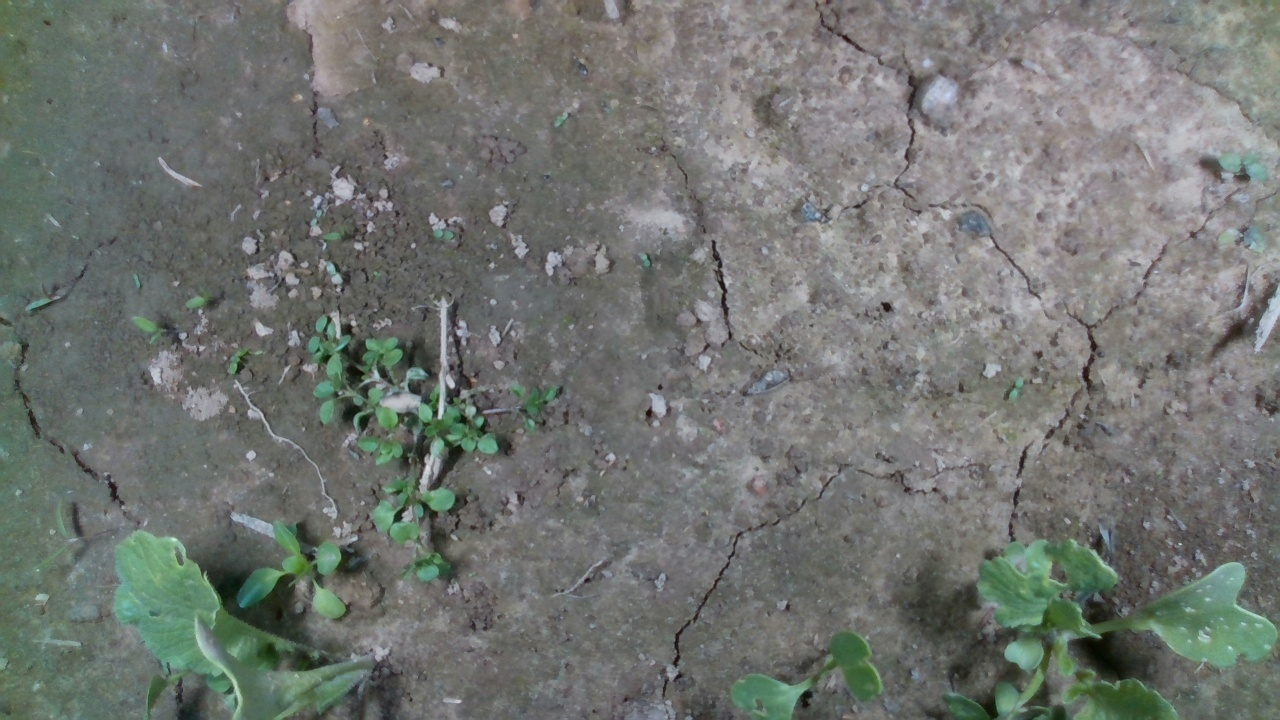weed: (1217, 145, 1269, 183), (130, 314, 168, 343), (182, 287, 216, 311), (224, 345, 249, 377), (1005, 373, 1024, 403), (552, 109, 570, 128), (430, 227, 454, 240), (638, 250, 651, 269), (131, 272, 143, 291)
